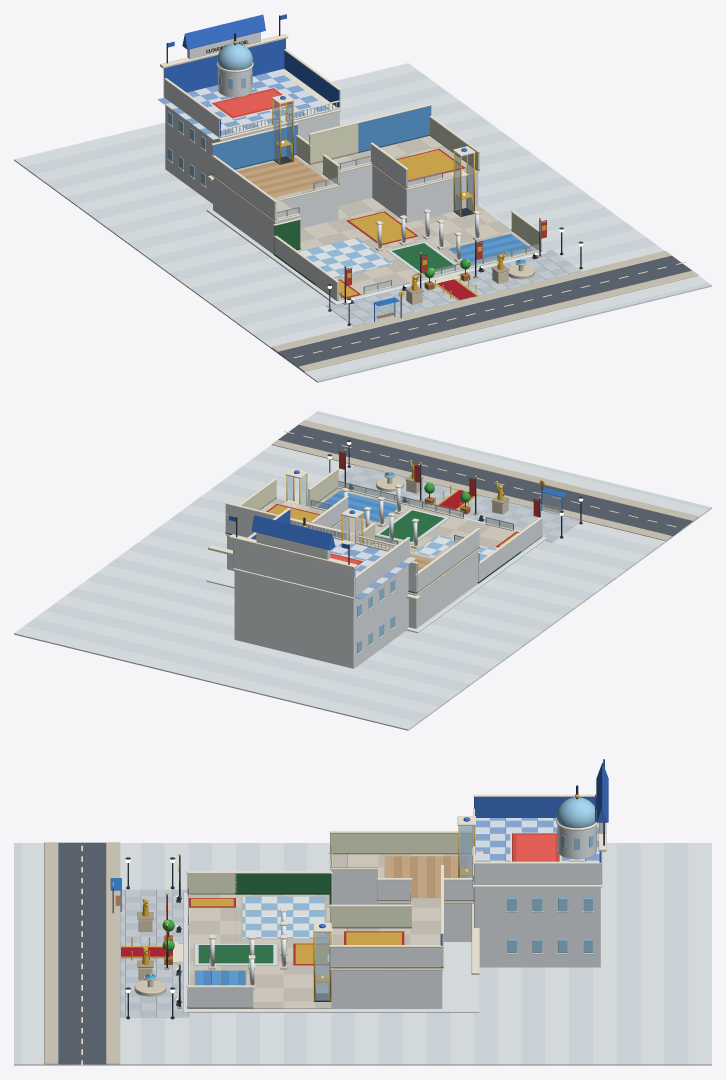
The model's file is shell.glb.
3 renders of one model, top to bottom at view 1: azimuth 30°, elevation 25°; view 2: azimuth 150°, elevation 25°; view 3: azimuth 270°, elevation 25°, orthographic. The views are drawn at different scales.
Parts seen in each view (by area): view 1: grounds, floor_floor_1, building, floor_summit_deck, crown, lift_floor_1, grand_2, lift_summit_deck, dome, grand_4, grand_3; view 2: grounds, floor_summit_deck, building, floor_floor_1, crown, grand_2, lift_floor_1, lift_summit_deck, grand_4, grand_3; view 3: grounds, building, floor_floor_1, floor_summit_deck, crown, lift_floor_1, lift_summit_deck, dome, grand_4, grand_3, grand_2.
Part boxes in pixels (box(x1,y1,x2,y2)): grounds: box(14, 63, 711, 382); floor_floor_1: box(211, 103, 480, 254); building: box(206, 198, 546, 304); floor_summit_deck: box(158, 38, 340, 203); crown: box(160, 14, 288, 180); lift_floor_1: box(450, 146, 475, 216); grand_2: box(342, 217, 546, 304); lift_summit_deck: box(271, 94, 294, 164); dome: box(217, 43, 252, 70); grand_4: box(405, 251, 509, 304); grand_3: box(349, 252, 538, 303); grounds: box(14, 411, 711, 730); floor_summit_deck: box(233, 507, 415, 668); building: box(206, 468, 546, 632); floor_floor_1: box(225, 478, 480, 628); crown: box(208, 515, 419, 600); grand_2: box(338, 449, 542, 535); lift_floor_1: box(284, 468, 308, 506); lift_summit_deck: box(339, 508, 363, 544); grand_4: box(405, 460, 509, 514); grand_3: box(348, 483, 484, 521); grounds: box(14, 842, 711, 1065); building: box(173, 858, 479, 1012); floor_floor_1: box(329, 831, 473, 1008); floor_summit_deck: box(472, 794, 602, 967); crown: box(471, 759, 608, 974); lift_floor_1: box(313, 922, 331, 1001); lift_summit_deck: box(457, 816, 483, 877); dome: box(556, 797, 596, 828); grand_4: box(137, 898, 153, 980); grand_3: box(121, 895, 181, 1005); grand_2: box(162, 854, 181, 1008).
Bounding box in the file's own units: 33.3 × 10.53 × 44.
